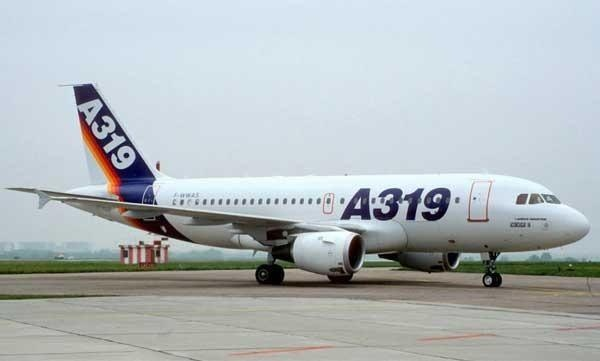airplane: (2, 79, 590, 291)
